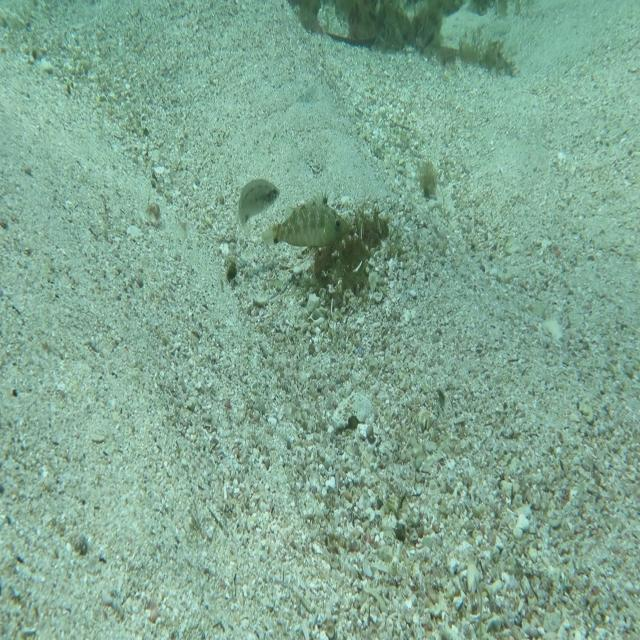ROLL: (260, 185, 354, 251)
female: (236, 173, 281, 243)
nest: (283, 168, 386, 304)
